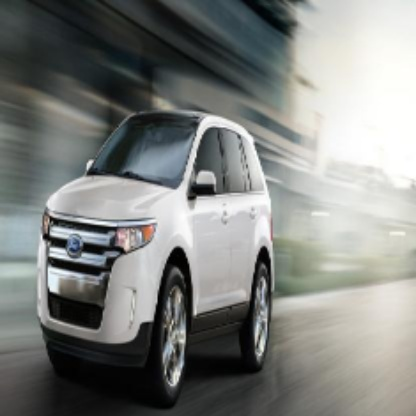Vehicle: (36, 101, 276, 404)
